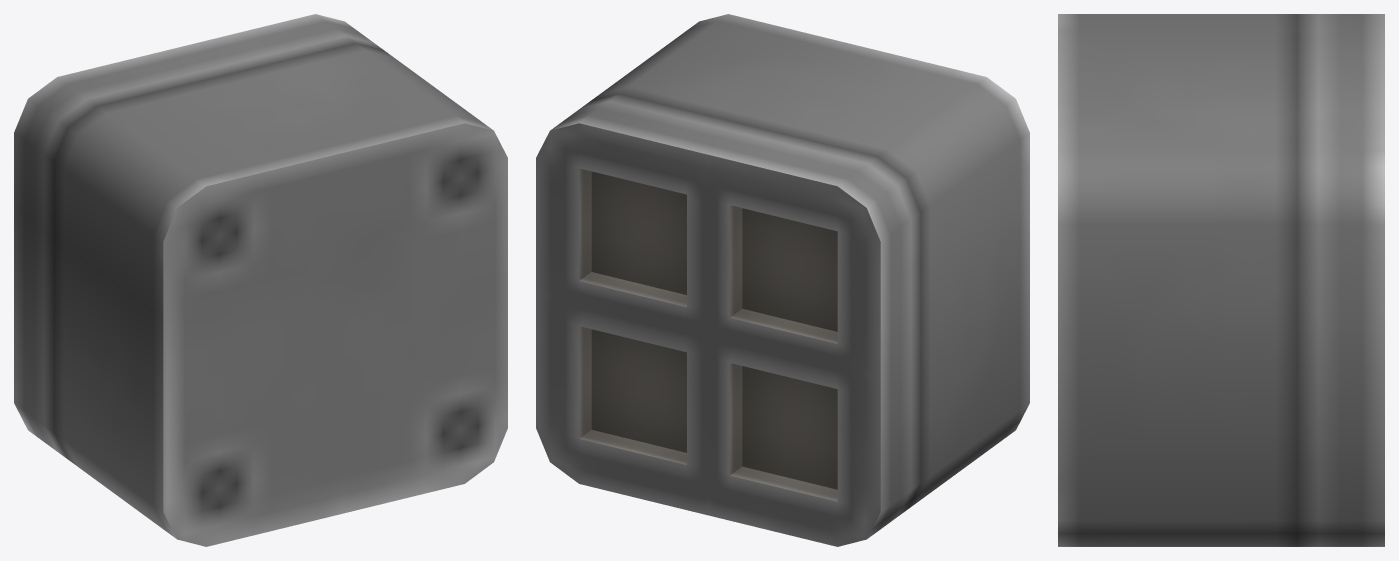
The model's file is mmdetector.obj.
The picture shows the model from 3 angles, left to right: view 1: azimuth 30°, elevation 25°; view 2: azimuth 150°, elevation 25°; view 3: azimuth 270°, elevation 25°; orthographic projection. The views are drawn at different scales.
Visible parts, largest first — view 1: mmdetector; view 2: mmdetector; view 3: mmdetector.
Boxes of the visible parts, x1,y1,x2,y2 form: mmdetector: (14, 14, 507, 546); mmdetector: (536, 14, 1029, 546); mmdetector: (1058, 14, 1384, 546).
Bounding box in the file's own units: 0.1 × 0.1 × 0.075.
Materials: 1 (1 with a texture image).
